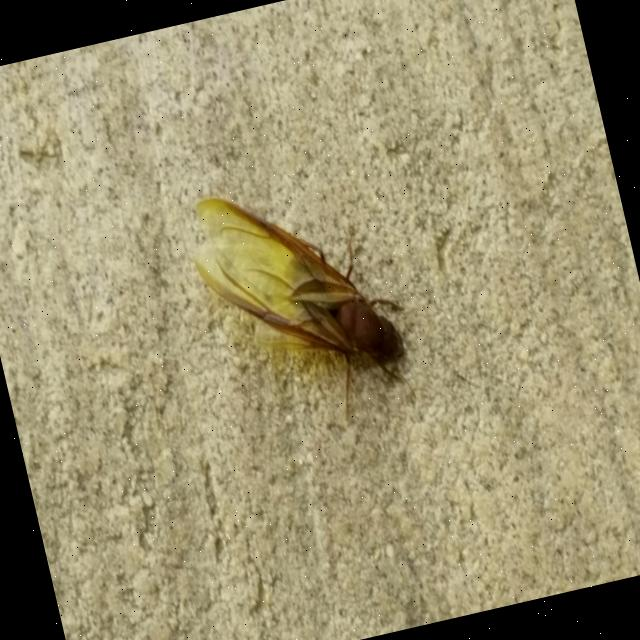Alive-Female-Alate: (180, 158, 426, 447)
